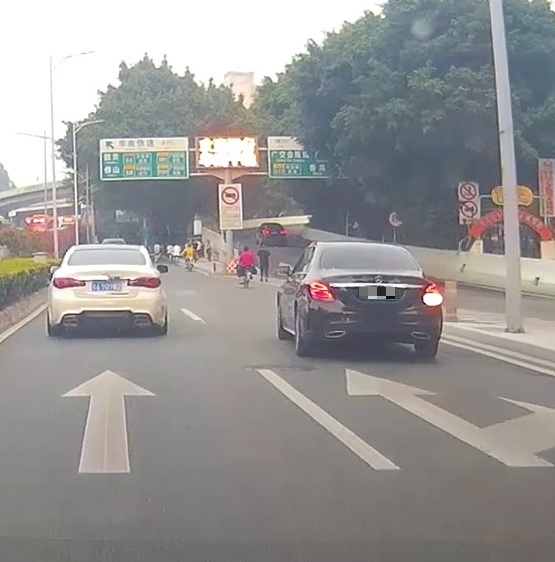L_light: (309, 280, 335, 302), (52, 277, 86, 288)
R_light: (422, 283, 442, 306), (127, 275, 160, 288)
T_light: (99, 250, 117, 254), (360, 246, 378, 250)
day-no: (48, 244, 162, 336)
day-right: (307, 240, 443, 358)
plate_1: (359, 287, 397, 299)
